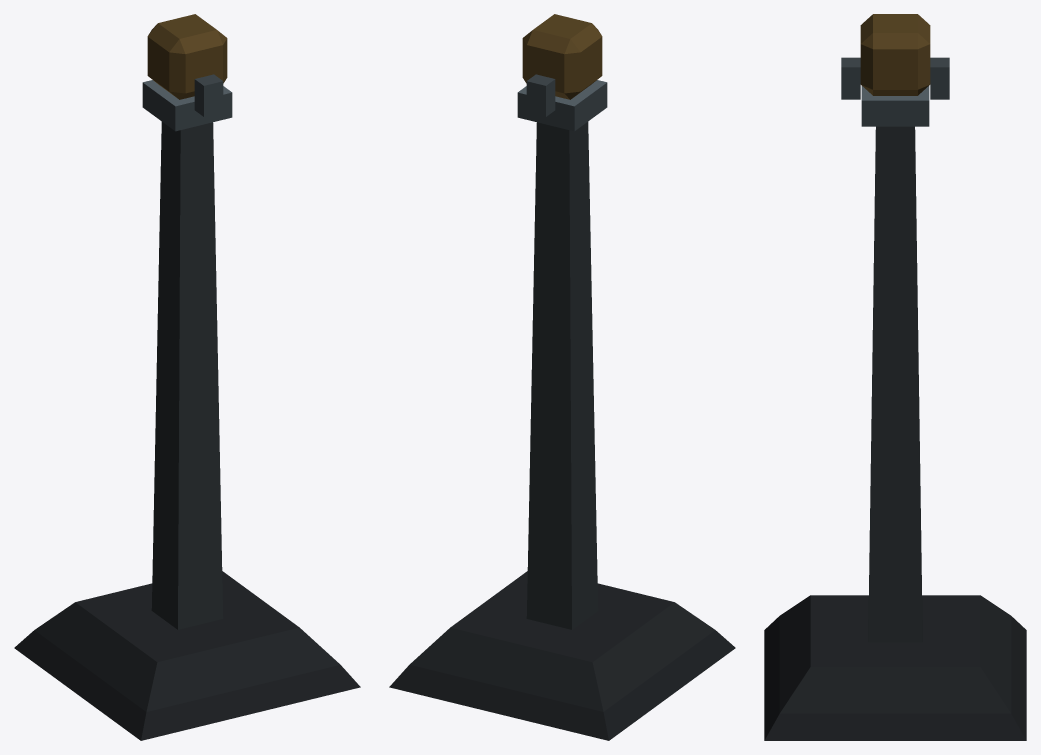
Rendered from lp_stanchion.glb.
The picture shows the model from 3 angles, left to right: view 1: azimuth 30°, elevation 25°; view 2: azimuth 150°, elevation 25°; view 3: azimuth 270°, elevation 25°; orthographic projection. The views are drawn at different scales.
Parts seen in each view (by area): view 1: lp_stanchion; view 2: lp_stanchion; view 3: lp_stanchion.
Boxes of the visible parts, x1,y1,x2,y2 form: lp_stanchion: [14, 14, 360, 740]; lp_stanchion: [389, 14, 735, 740]; lp_stanchion: [764, 14, 1026, 740].
Size of the model in its own units: 0.34 by 0.947 by 0.34.
1 material, 1 textured.
